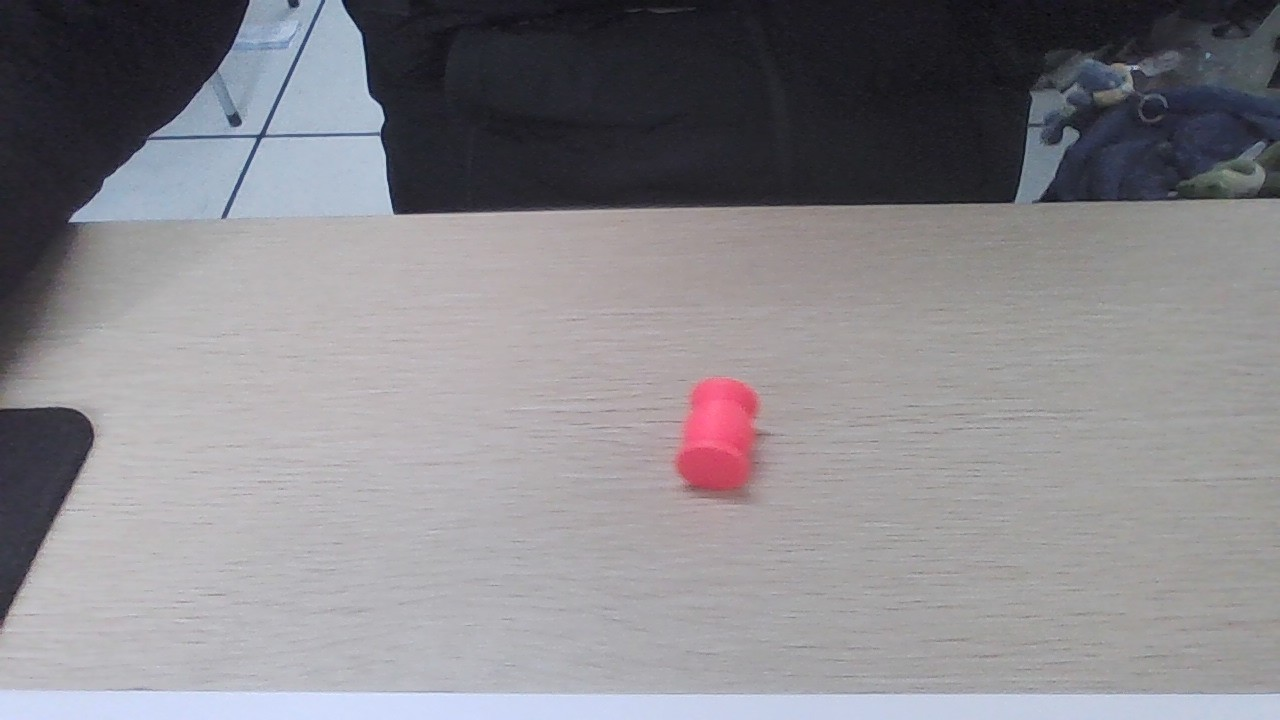KHS-plastic: (673, 380, 755, 486)
